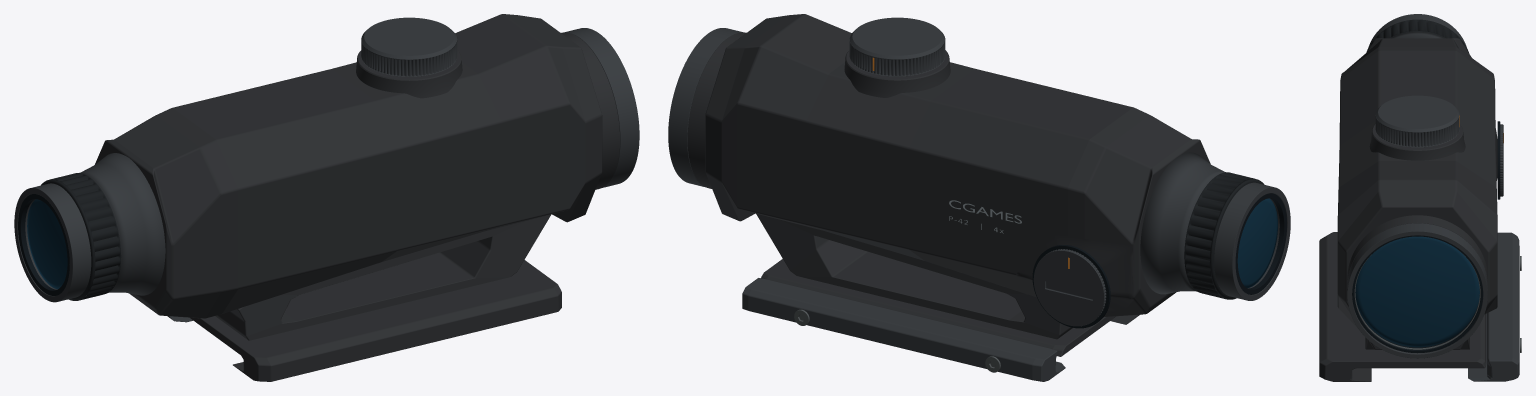
Rendered from P42_4x_Compact_A5_Rail.glb.
3 views of the same model, side by side, from view 1: azimuth 30°, elevation 25°; view 2: azimuth 150°, elevation 25°; view 3: azimuth 270°, elevation 25° (orthographic). The views are drawn at different scales.
Parts seen in each view (by area): view 1: 01 PRIMARY | faceted prism housing, 21 LOWER SHELL | thin bridge and fixed edge, 20 UPPER FOOT | open angular saddle, 07 REAR | short taper neck, 10 REAR | end rim, 14 TOP | cap stepped core, 09 REAR | integrated axial rubber grip, 02 FRONT | short protective lip, 12 REAR | visual glass, 03 FRONT | narrow second shoulder, 13 TOP | compact housing boss, 15 TOP | actual fine axial flutes (+2 smaller); view 2: 01 PRIMARY | faceted prism housing, 20 UPPER FOOT | open angular saddle, 22 SIDE STRIP | independent continuous bar, 07 REAR | short taper neck, 21 LOWER SHELL | thin bridge and fixed edge, 18 SIDE | circular cap, 10 REAR | end rim, 14 TOP | cap stepped core, 09 REAR | integrated axial rubber grip, 02 FRONT | short protective lip, 16 SIDE | shallow integral control root, 12 REAR | visual glass (+6 smaller); view 3: 01 PRIMARY | faceted prism housing, 06 FRONT | recessed curved visual coating, 21 LOWER SHELL | thin bridge and fixed edge, 22 SIDE STRIP | independent continuous bar, 02 FRONT | short protective lip, 14 TOP | cap stepped core, 13 TOP | compact housing boss, 04 FRONT | dark cylindrical well, 03 FRONT | narrow second shoulder, 15 TOP | actual fine axial flutes, 09 REAR | integrated axial rubber grip, 10 REAR | end rim (+5 smaller).
Part boxes in pixels (left/top/right/bottom): 01 PRIMARY | faceted prism housing: left=95, top=14, right=602, bottom=318; 21 LOWER SHELL | thin bridge and fixed edge: left=190, top=260, right=561, bottom=381; 20 UPPER FOOT | open angular saddle: left=215, top=214, right=550, bottom=340; 07 REAR | short taper neck: left=79, top=153, right=165, bottom=295; 10 REAR | end rim: left=14, top=183, right=91, bottom=302; 14 TOP | cap stepped core: left=361, top=17, right=457, bottom=76; 09 REAR | integrated axial rubber grip: left=50, top=173, right=120, bottom=300; 02 FRONT | short protective lip: left=563, top=28, right=639, bottom=187; 12 REAR | visual glass: left=27, top=199, right=67, bottom=289; 03 FRONT | narrow second shoulder: left=561, top=32, right=619, bottom=189; 13 TOP | compact housing boss: left=356, top=50, right=462, bottom=98; 15 TOP | actual fine axial flutes: left=361, top=38, right=457, bottom=76; 01 PRIMARY | faceted prism housing: left=705, top=14, right=1210, bottom=316; 20 UPPER FOOT | open angular saddle: left=756, top=213, right=1072, bottom=339; 22 SIDE STRIP | independent continuous bar: left=742, top=278, right=1065, bottom=381; 07 REAR | short taper neck: left=1140, top=152, right=1225, bottom=294; 21 LOWER SHELL | thin bridge and fixed edge: left=761, top=259, right=1139, bottom=356; 18 SIDE | circular cap: left=1033, top=250, right=1104, bottom=326; 10 REAR | end rim: left=1214, top=182, right=1290, bottom=300; 14 TOP | cap stepped core: left=850, top=17, right=944, bottom=76; 09 REAR | integrated axial rubber grip: left=1185, top=172, right=1254, bottom=299; 02 FRONT | short protective lip: left=668, top=28, right=742, bottom=187; 16 SIDE | shallow integral control root: left=1016, top=233, right=1135, bottom=313; 12 REAR | visual glass: left=1237, top=198, right=1277, bottom=288; 01 PRIMARY | faceted prism housing: left=1337, top=38, right=1497, bottom=349; 06 FRONT | recessed curved visual coating: left=1355, top=236, right=1479, bottom=347; 21 LOWER SHELL | thin bridge and fixed edge: left=1319, top=232, right=1486, bottom=381; 22 SIDE STRIP | independent continuous bar: left=1468, top=232, right=1519, bottom=381; 02 FRONT | short protective lip: left=1347, top=223, right=1487, bottom=358; 14 TOP | cap stepped core: left=1375, top=95, right=1459, bottom=147; 13 TOP | compact housing boss: left=1369, top=124, right=1465, bottom=160; 04 FRONT | dark cylindrical well: left=1352, top=235, right=1483, bottom=353; 03 FRONT | narrow second shoulder: left=1347, top=215, right=1487, bottom=290; 15 TOP | actual fine axial flutes: left=1375, top=115, right=1459, bottom=146; 09 REAR | integrated axial rubber grip: left=1367, top=20, right=1468, bottom=51; 10 REAR | end rim: left=1368, top=14, right=1466, bottom=46.
Size of the model in its own units: 0.1602 by 0.0715 by 0.0577.
